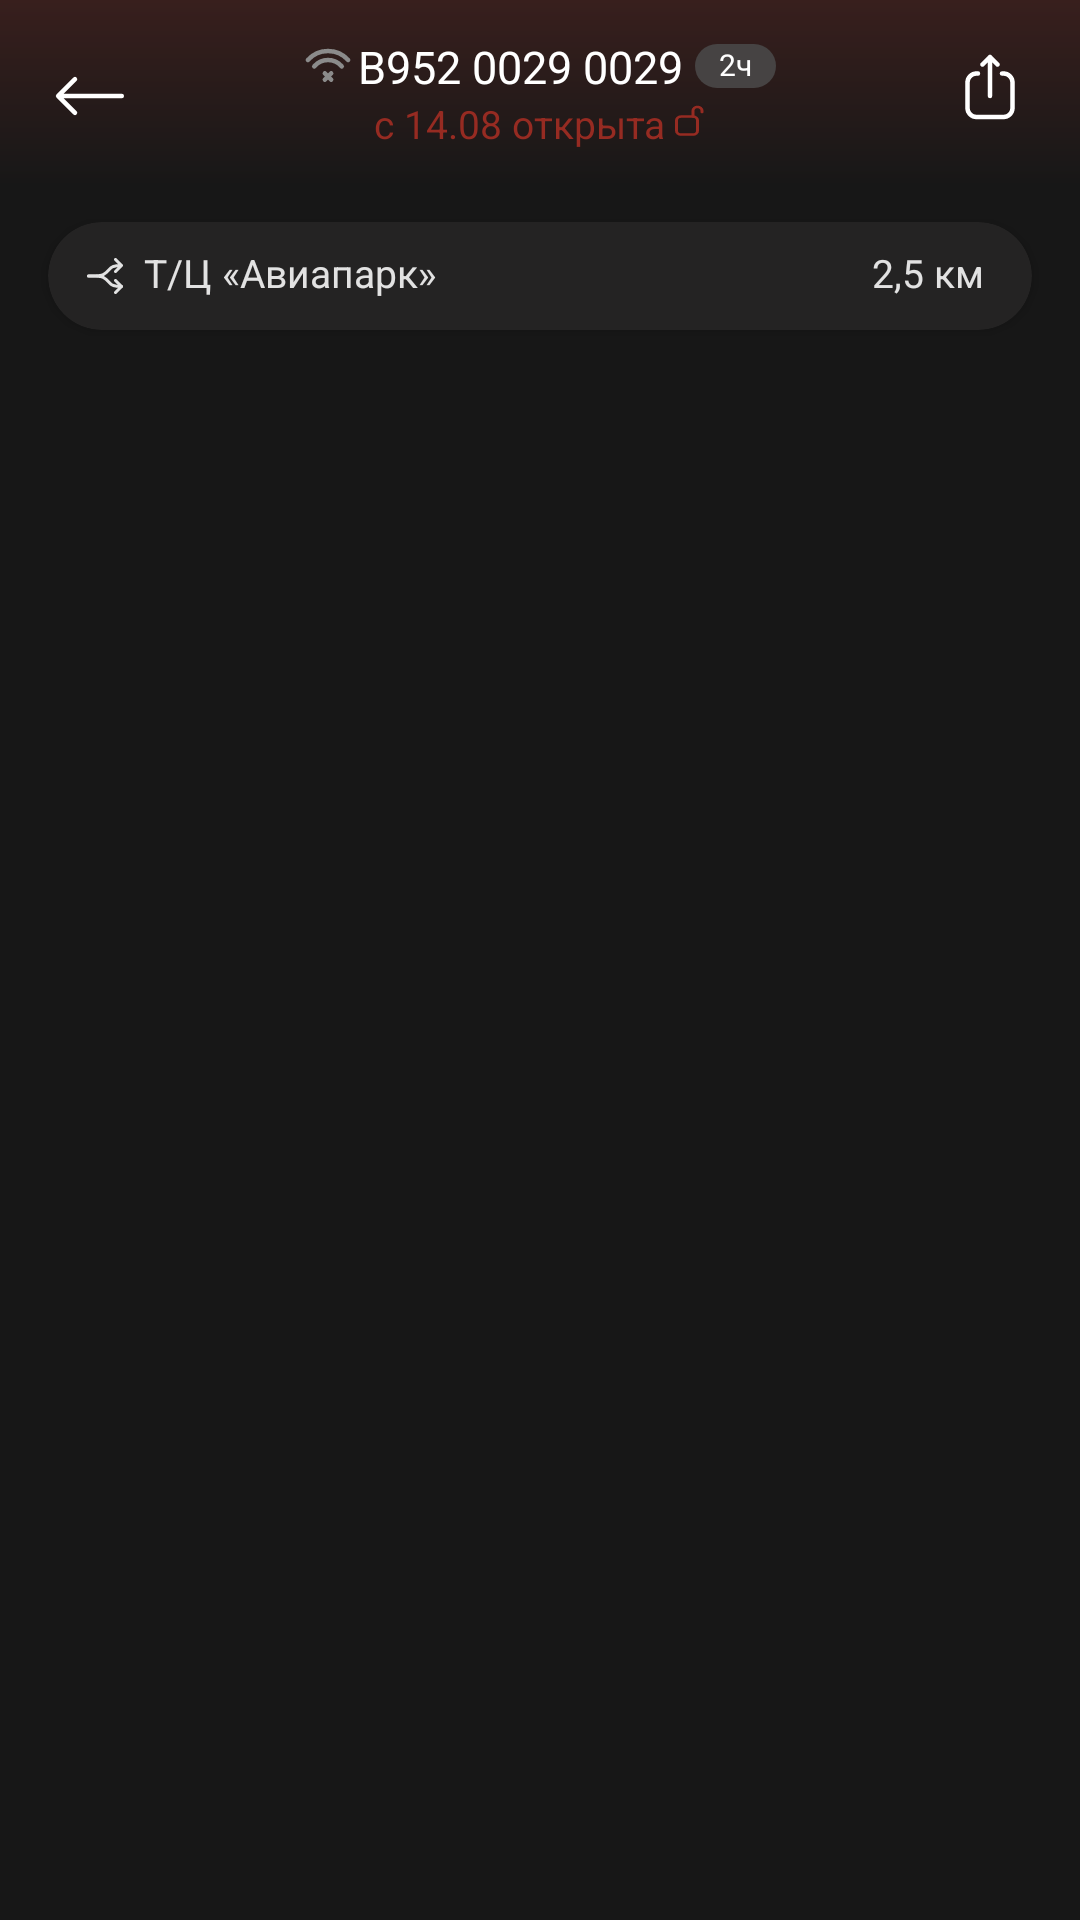

Where icons sit on this 1080*1920 app screen, as {"left": x1, "top": y1, "right": x2, "bottom": y2}:
arrow back: {"left": 56, "top": 77, "right": 124, "bottom": 115}
signal offline: {"left": 305, "top": 48, "right": 351, "bottom": 82}
